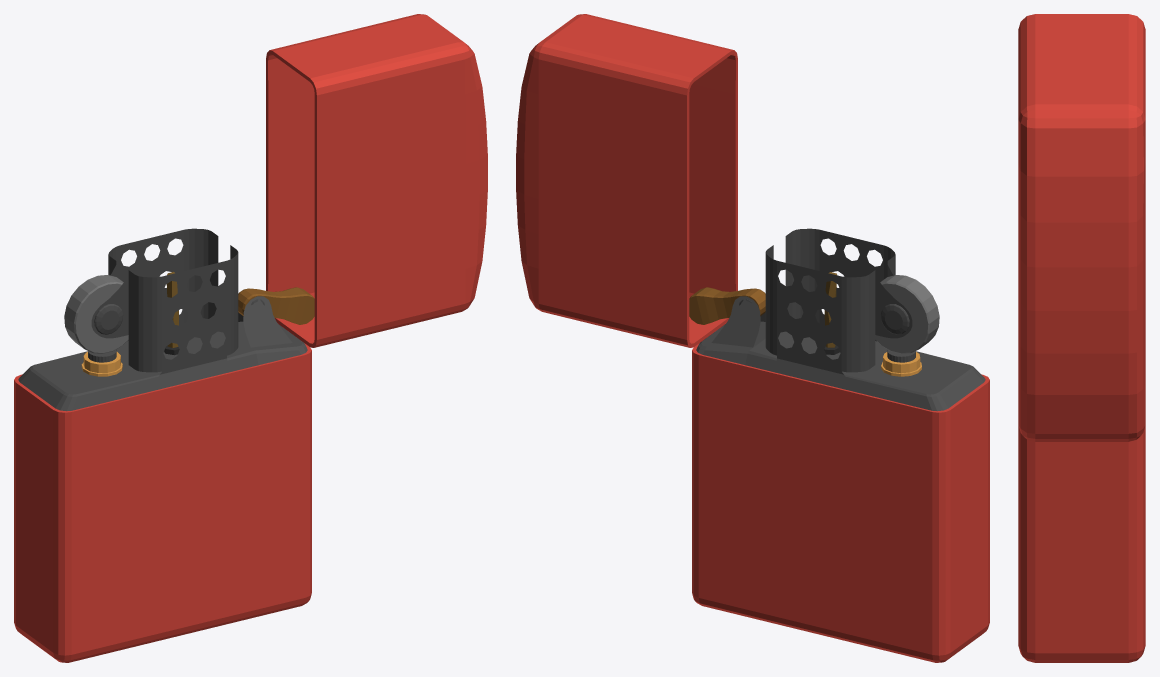
The model's file is zippo.fbx.
The picture shows the model from 3 angles, left to right: view 1: azimuth 30°, elevation 25°; view 2: azimuth 150°, elevation 25°; view 3: azimuth 270°, elevation 25°; orthographic projection. The views are drawn at different scales.
Parts seen in each view (by area): view 1: BASE, LID, WHEEL, ATTACHMENT; view 2: BASE, LID, WHEEL, ATTACHMENT; view 3: LID, BASE.
Part boxes in pixels (x1,y1,x2,y2): BASE: (14,228,311,662); LID: (266,14,487,347); WHEEL: (64,275,128,353); ATTACHMENT: (238,287,314,324); BASE: (692,228,989,662); LID: (516,14,737,347); WHEEL: (875,275,939,353); ATTACHMENT: (689,287,765,324); LID: (1018,14,1145,441); BASE: (1018,425,1145,662).
Bounding box in the file's own units: 58.97 × 12 × 68.2.
